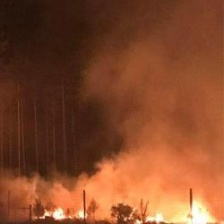fire: (34, 201, 214, 224)
smoke: (65, 49, 218, 186)
